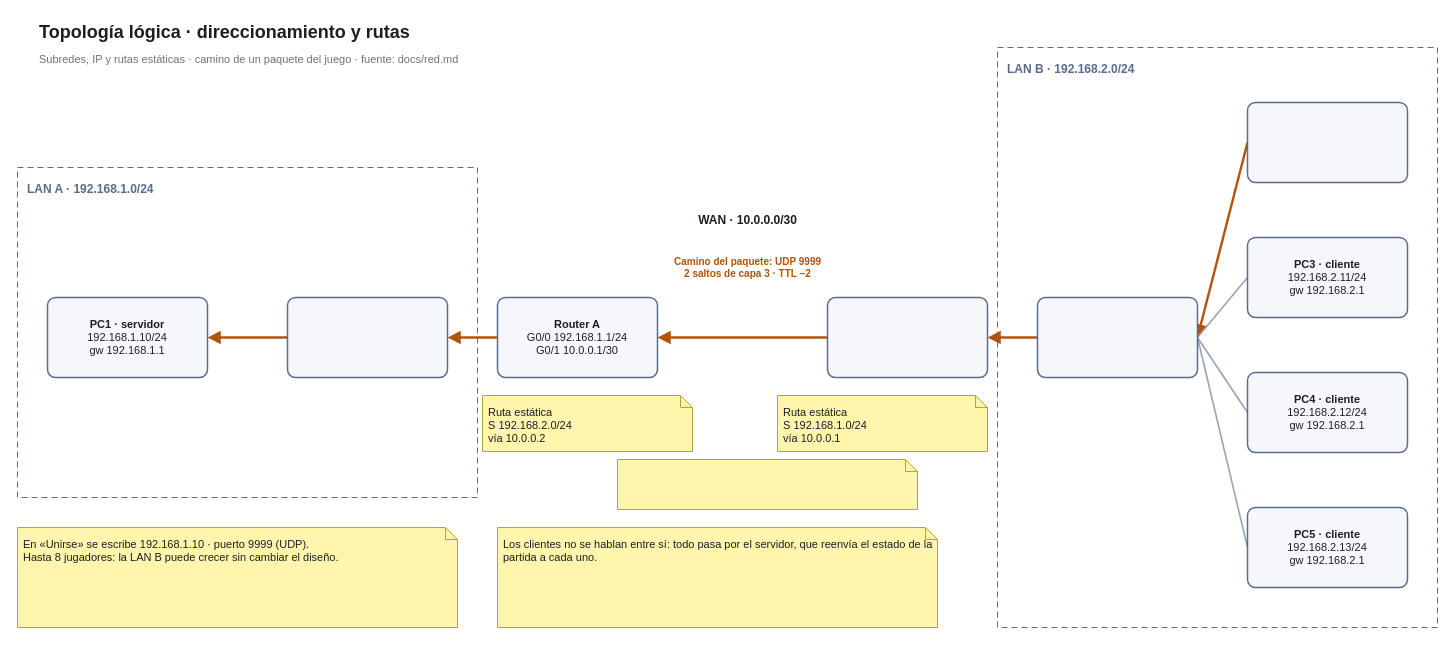
The diagram is 1455 pixels wide and 645 high, and some of its shapes have lost their labels. Here are the shapes that lost their labels. From the top down, the centre of each, then its label:
At pixel 1327 142: "PC2 · cliente 192.168.2.10/24 gw 192.168.2.1".
At pixel 367 337: "SW-A switch capa 2".
At pixel 907 337: "Router B G0/1 10.0.0.2/30 G0/0 192.168.2.1/24".
At pixel 1117 337: "SW-B switch capa 2".
At pixel 767 484: "Sin NAT: cada LAN conserva su direccionamiento y los routers solo enrutan.".
